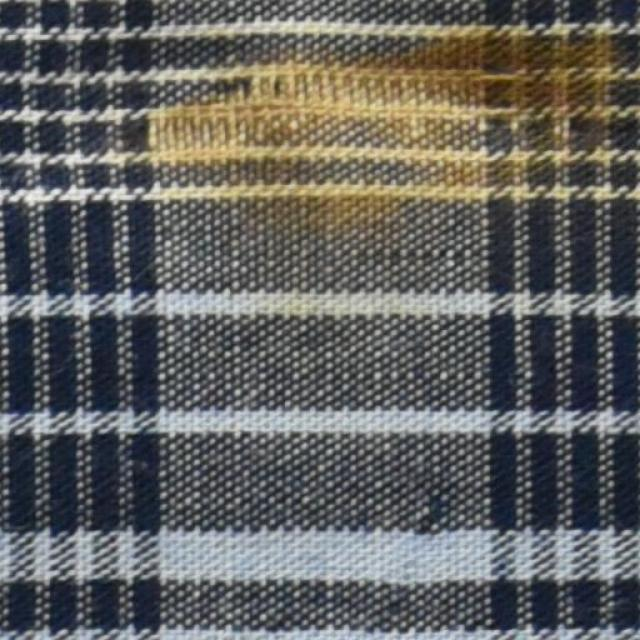Stain: (140, 14, 639, 246)
